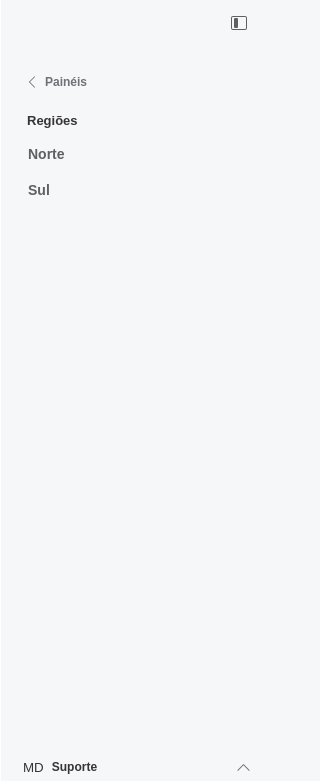
Test: Sidebar: pilha com vários níveis › defaultExpanded nos dois níveis também empilha os dois
This screenshot has width=320, height=781.
Check: the link "Norte" is shown, box [28,146,65,162]
Click the button "Painéis".
click(137, 82)  # box [19,65,255,99]
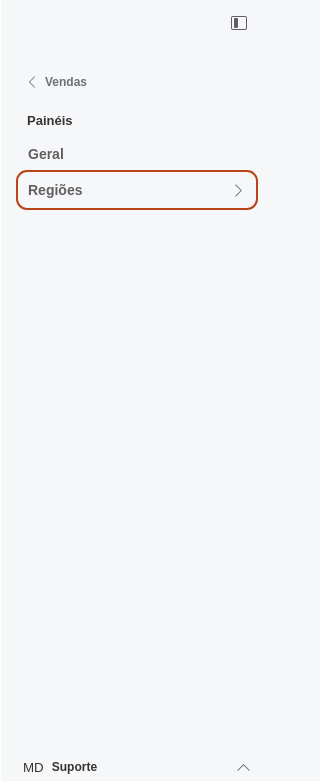
Check: the link "Geral" is shown, box [28,146,64,162]
